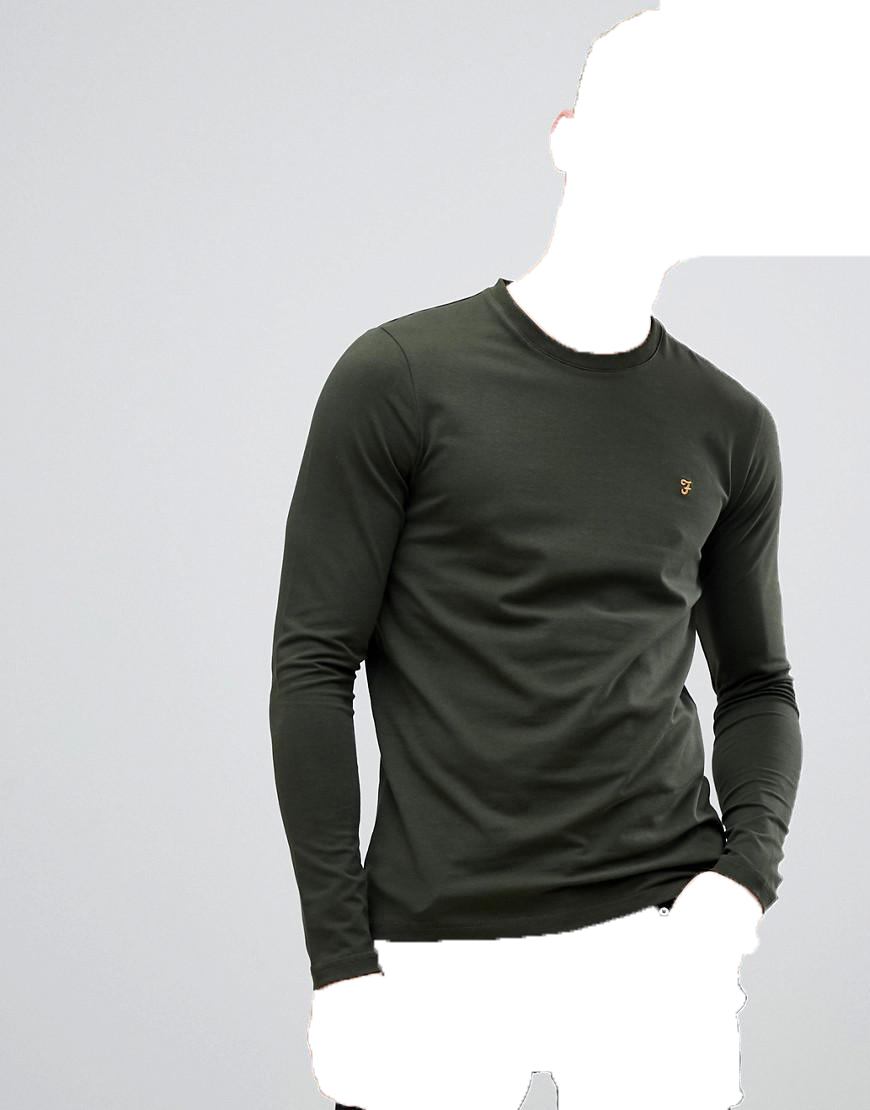teeshirt: (256, 268, 805, 978)
